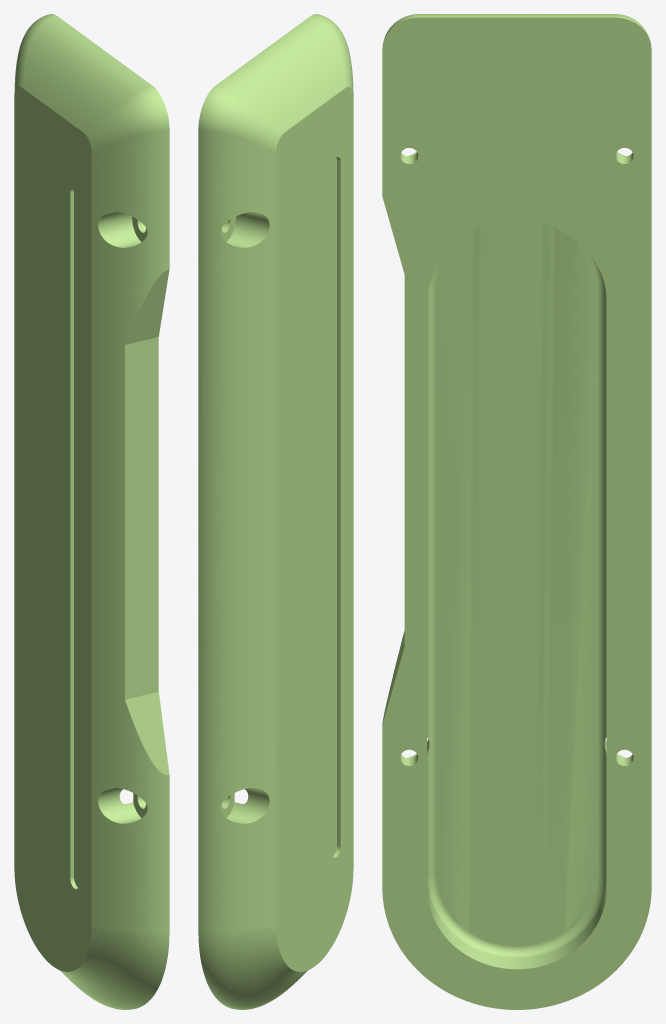
File: Main_CaseOutside_4.dae
3 views of the same model, side by side, from view 1: azimuth 30°, elevation 25°; view 2: azimuth 150°, elevation 25°; view 3: azimuth 270°, elevation 25° (orthographic). The views are drawn at different scales.
Visible parts, largest first — view 1: Main_CaseOutside_4; view 2: Main_CaseOutside_4; view 3: Main_CaseOutside_4.
Boxes of the visible parts, x1=… form: Main_CaseOutside_4: x1=14, y1=14, x2=169, y2=1009; Main_CaseOutside_4: x1=198, y1=14, x2=353, y2=1009; Main_CaseOutside_4: x1=382, y1=14, x2=651, y2=1009.
Bounding box in the file's own units: 0.007 × 0.03 × 0.122.
